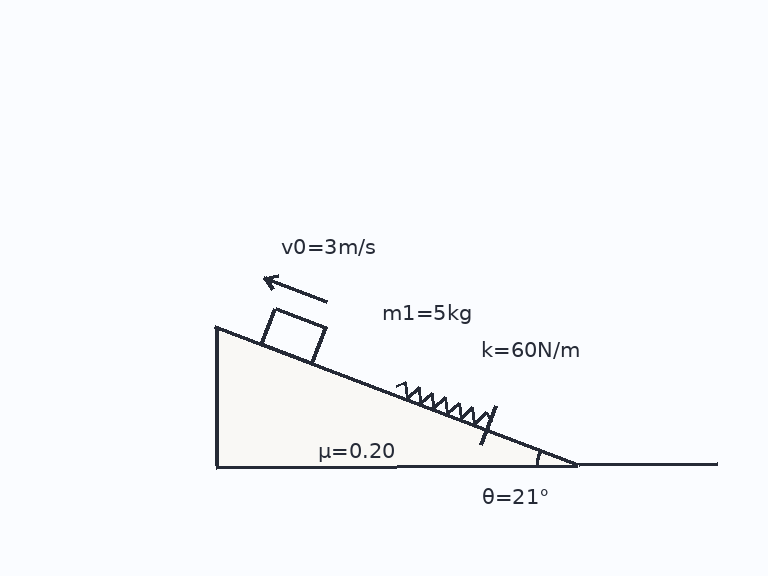block: (259, 305, 327, 365)
ramp: (214, 324, 579, 467)
spring: (394, 380, 492, 425)
